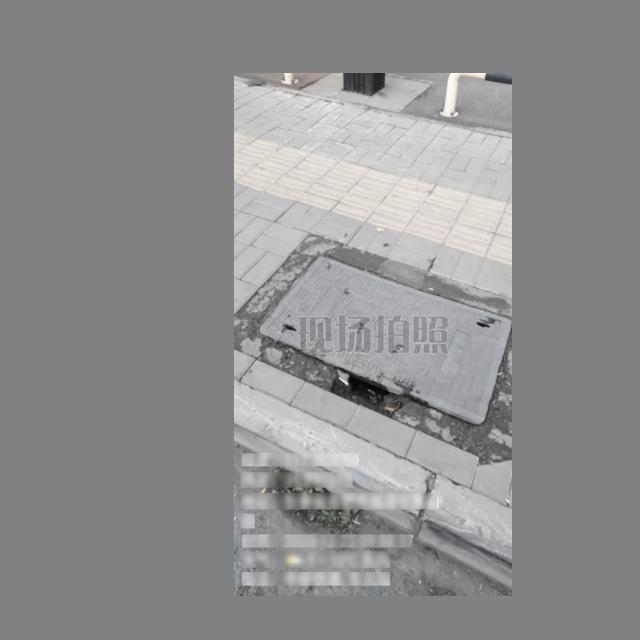circle: (237, 233, 512, 443)
